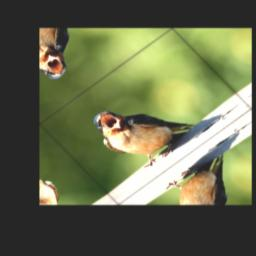Swallow: (83, 77, 202, 179)
